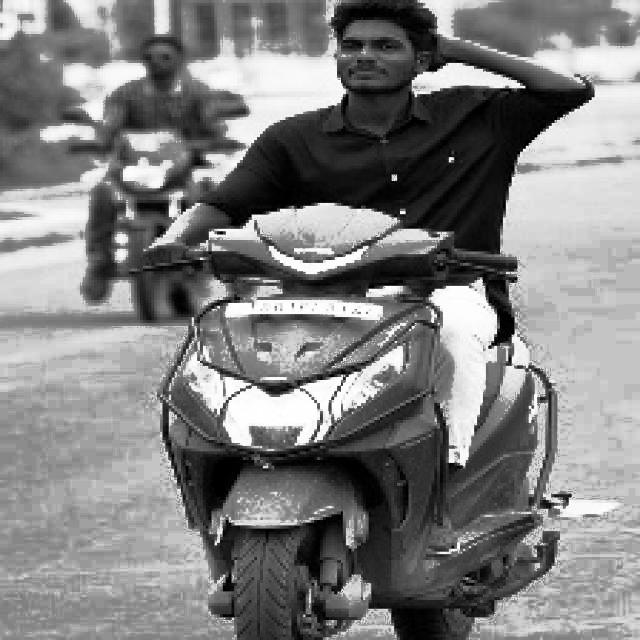Bike: (167, 208, 574, 639), (68, 113, 216, 307)
